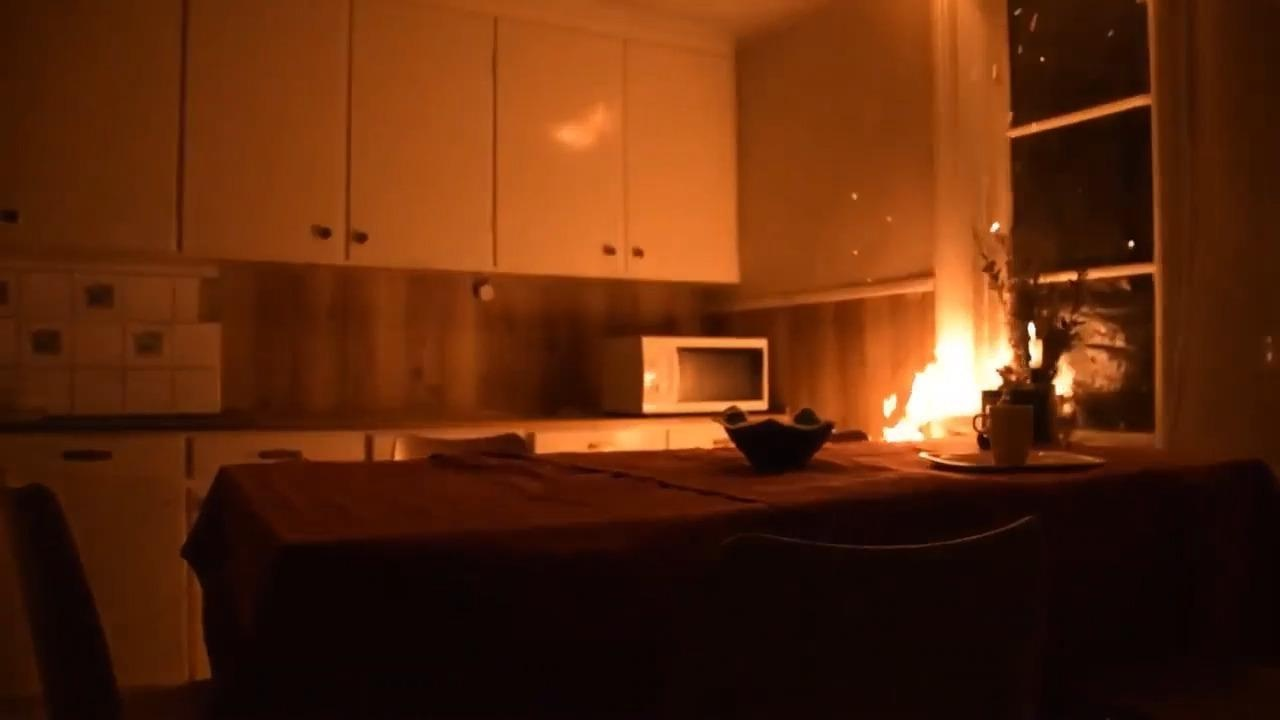fire: (859, 279, 1100, 484)
